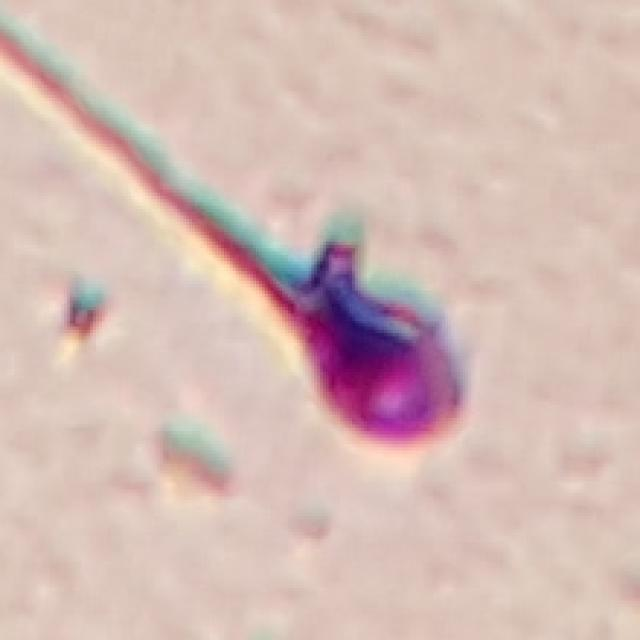normal sperm: (224, 227, 464, 447)
